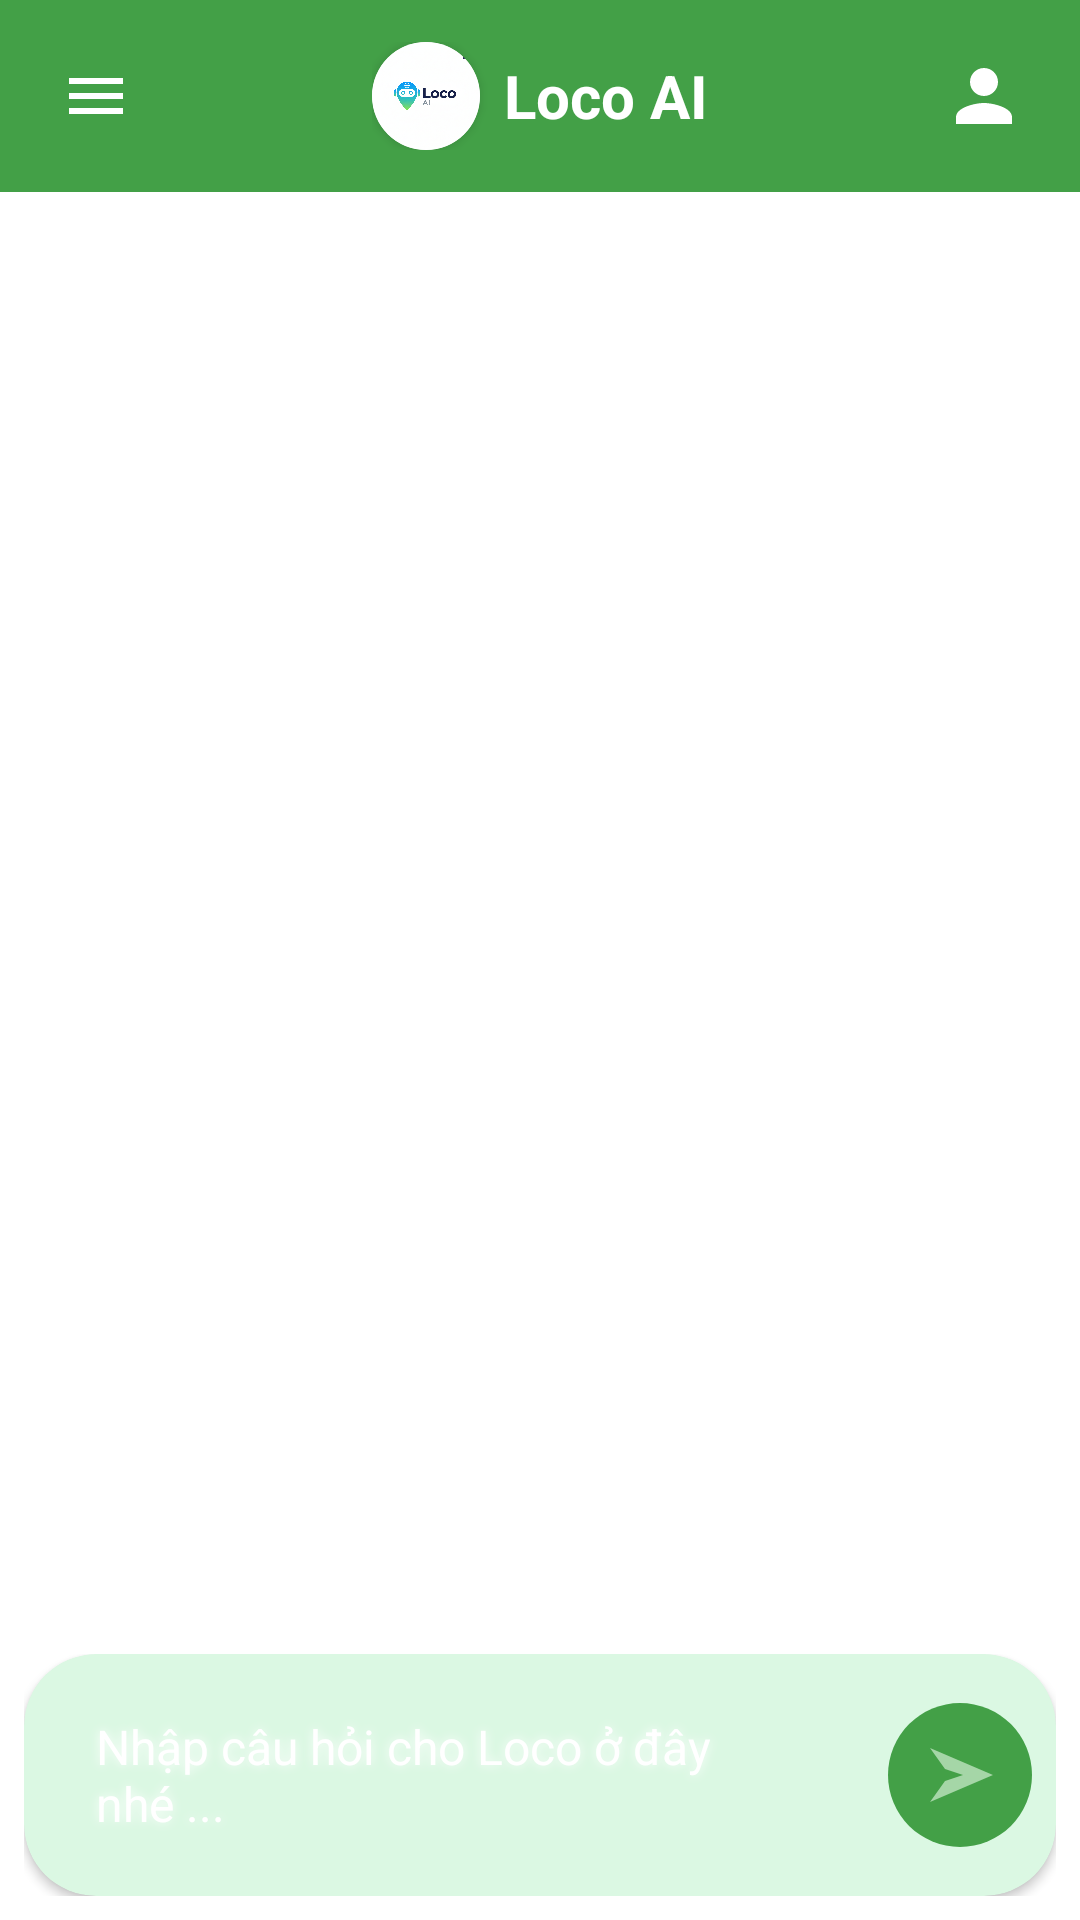

Icons on this 1080 x 1920 Android screen, each with its box as [left=x1, top=y1, right=x2, bottom=y2]:
Gửi: [left=888, top=1703, right=1032, bottom=1847]
Menu: [left=69, top=78, right=123, bottom=114]
